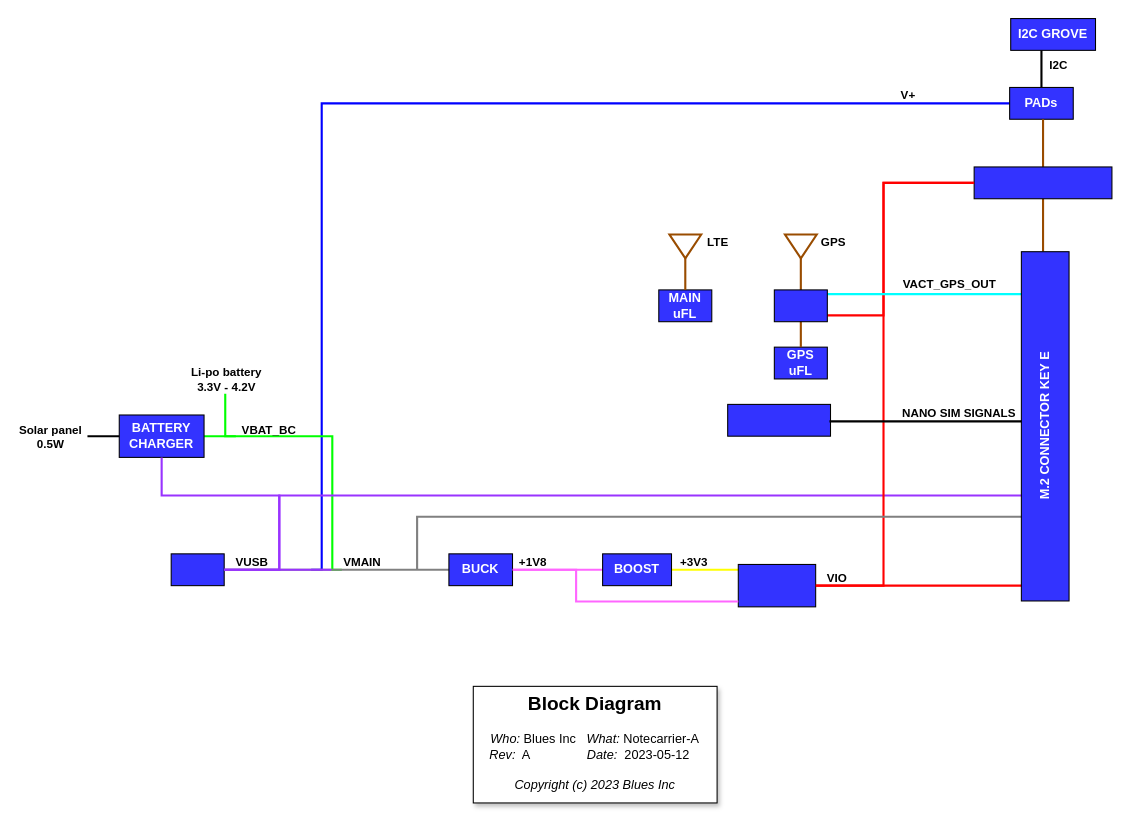
The diagram is 1130 pixels wide and 829 high, and some of its shapes have lost their labels. The shapes that lost their labels are listed below. From the top down, each one's centre as x and y in pixels, then its label:
point (1042, 182): PROTECTION NET
point (800, 305): LNA
point (779, 419): NANO SIM CONNECTOR
point (197, 569): uUSB
point (776, 585): SWITCH
